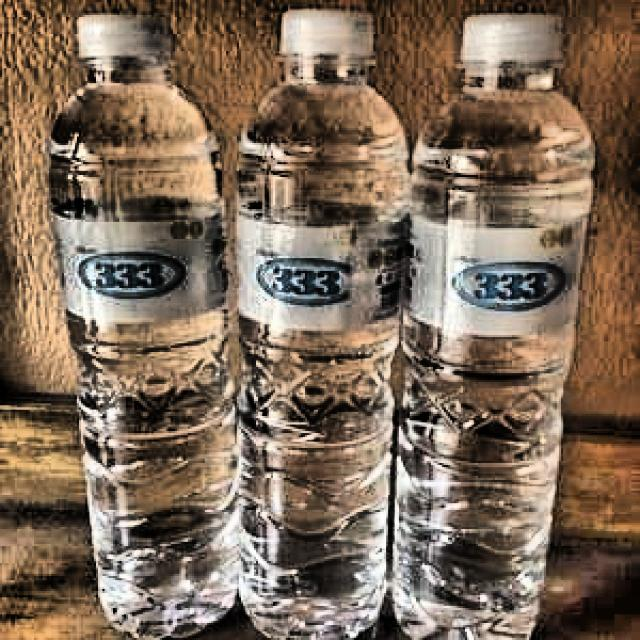Bottles: (399, 0, 599, 640), (44, 9, 240, 640)
